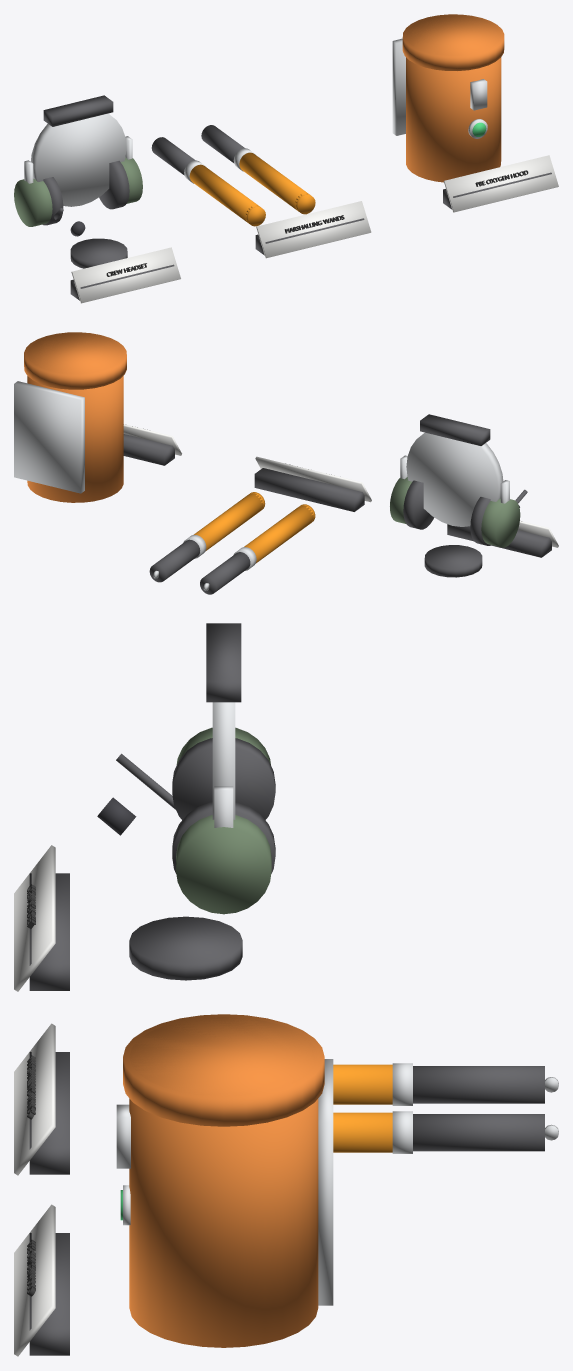
Rendered from Topshelfaircraftparts.fbx.
3 renders of one model, top to bottom at view 1: azimuth 30°, elevation 25°; view 2: azimuth 150°, elevation 25°; view 3: azimuth 270°, elevation 25°, orthographic. The views are drawn at different scales.
Visible parts, largest first — view 1: Prop_TopShelf_PBECase, Prop_TopShelf_CrewHeadset, Prop_TopShelf_MarshallingWands; view 2: Prop_TopShelf_PBECase, Prop_TopShelf_CrewHeadset, Prop_TopShelf_MarshallingWands; view 3: Prop_TopShelf_PBECase, Prop_TopShelf_CrewHeadset, Prop_TopShelf_MarshallingWands.
Part boxes in pixels (bbox=[...]): Prop_TopShelf_PBECase: bbox=[392, 14, 558, 212]; Prop_TopShelf_CrewHeadset: bbox=[14, 95, 180, 303]; Prop_TopShelf_MarshallingWands: bbox=[151, 125, 371, 258]; Prop_TopShelf_PBECase: bbox=[14, 332, 181, 502]; Prop_TopShelf_CrewHeadset: bbox=[390, 414, 558, 577]; Prop_TopShelf_MarshallingWands: bbox=[149, 456, 371, 594]; Prop_TopShelf_PBECase: bbox=[14, 1014, 333, 1356]; Prop_TopShelf_CrewHeadset: bbox=[14, 623, 275, 991]; Prop_TopShelf_MarshallingWands: bbox=[14, 1023, 558, 1175].
Size of the model in its own units: 87 by 25.8 by 43.26.
